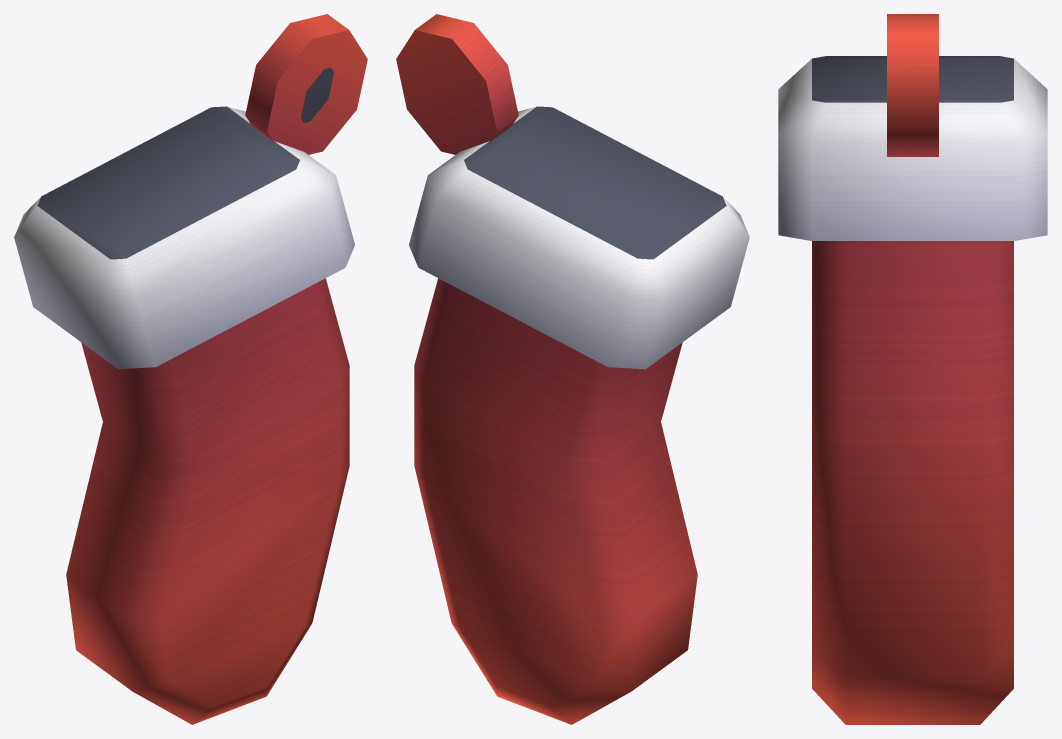
Rendered from sock-red.glb.
The picture shows the model from 3 angles, left to right: view 1: azimuth 30°, elevation 25°; view 2: azimuth 150°, elevation 25°; view 3: azimuth 270°, elevation 25°; orthographic projection. The views are drawn at different scales.
Visible parts, largest first — view 1: sock-red; view 2: sock-red; view 3: sock-red.
Boxes of the visible parts, box(x1,y1,x2,y2) form: sock-red: box(14, 14, 367, 724); sock-red: box(396, 14, 749, 724); sock-red: box(778, 14, 1047, 724).
Size of the model in its own units: 0.9182 by 1.87 by 0.6.
1 material, 1 textured.
